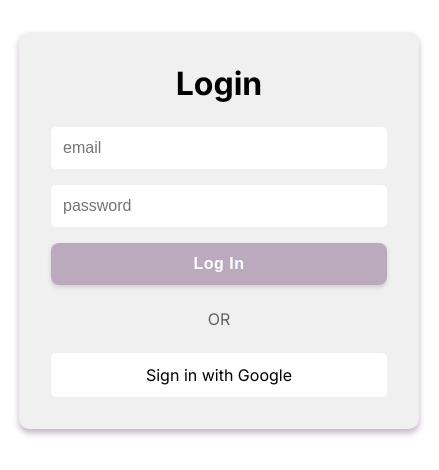
LoginPage › displays error message on login failure
Type "test@example.com" into the field with placeholder "email" at x=219, y=148, box [51, 127, 387, 169]
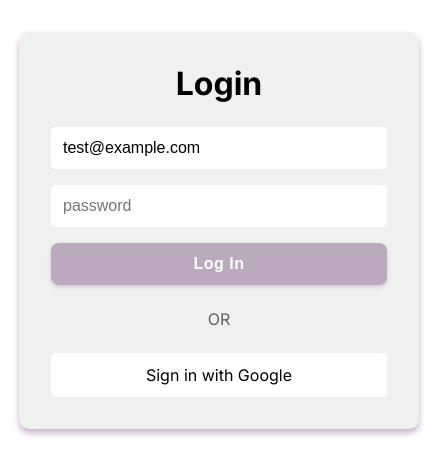
Type "wrongpassword" into the password field with placeholder "password" at x=219, y=206, box [51, 185, 387, 227]
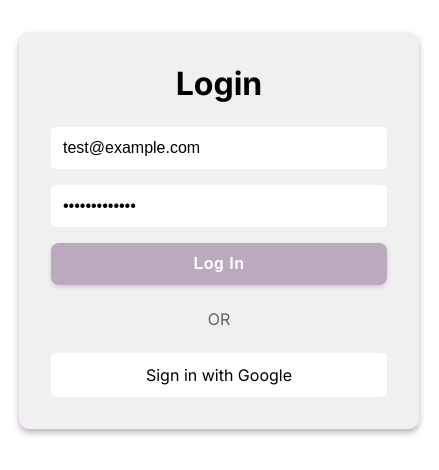
Click the button "Log In" at x=219, y=264, box [51, 243, 387, 285]
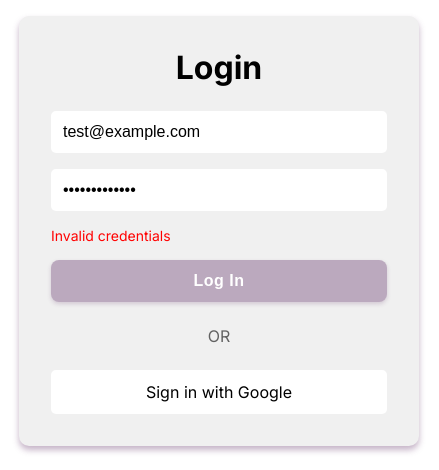
Result: the text "Invalid credentials" is shown at [51, 226, 171, 244]
